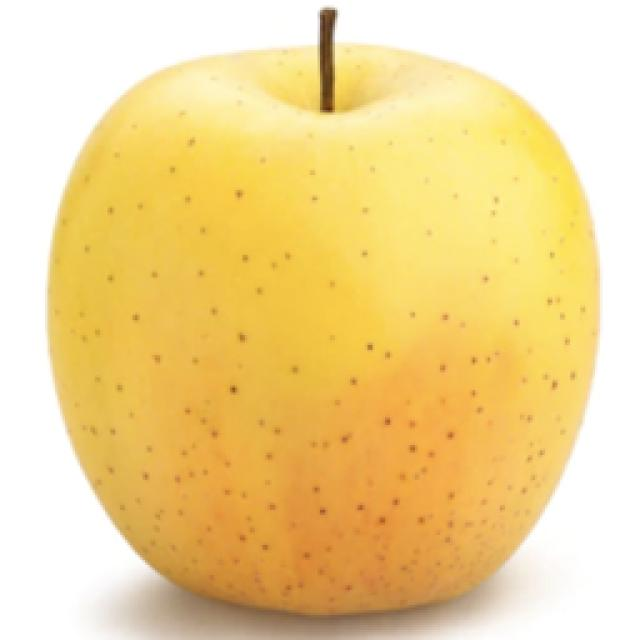Fresh_Apple: (30, 6, 631, 640)
